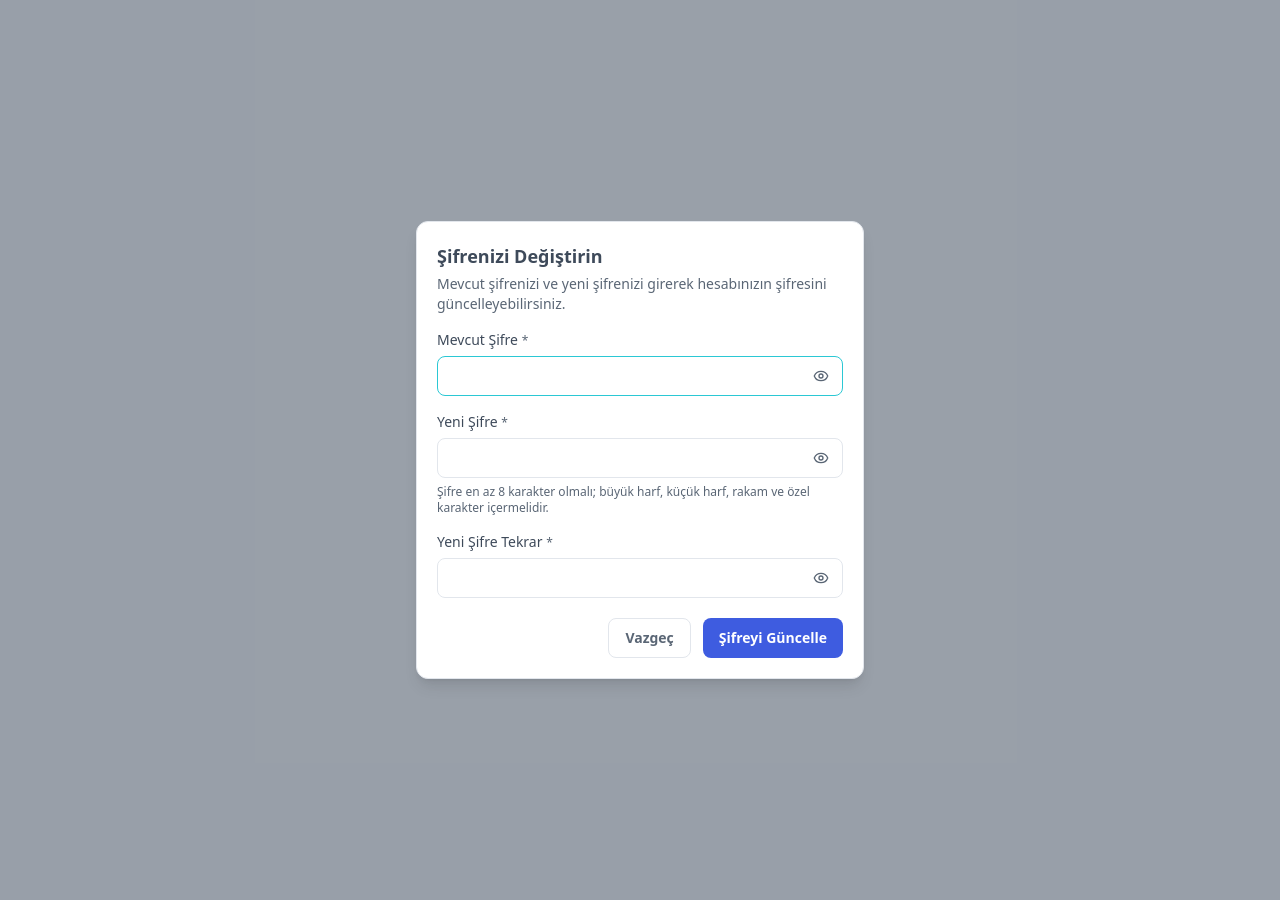
ChangePasswordDialog › boş formda hataları gösterir
Click the button "Şifreyi Güncelle" at (773, 638), box top-left (703, 618), bottom-right (843, 658)
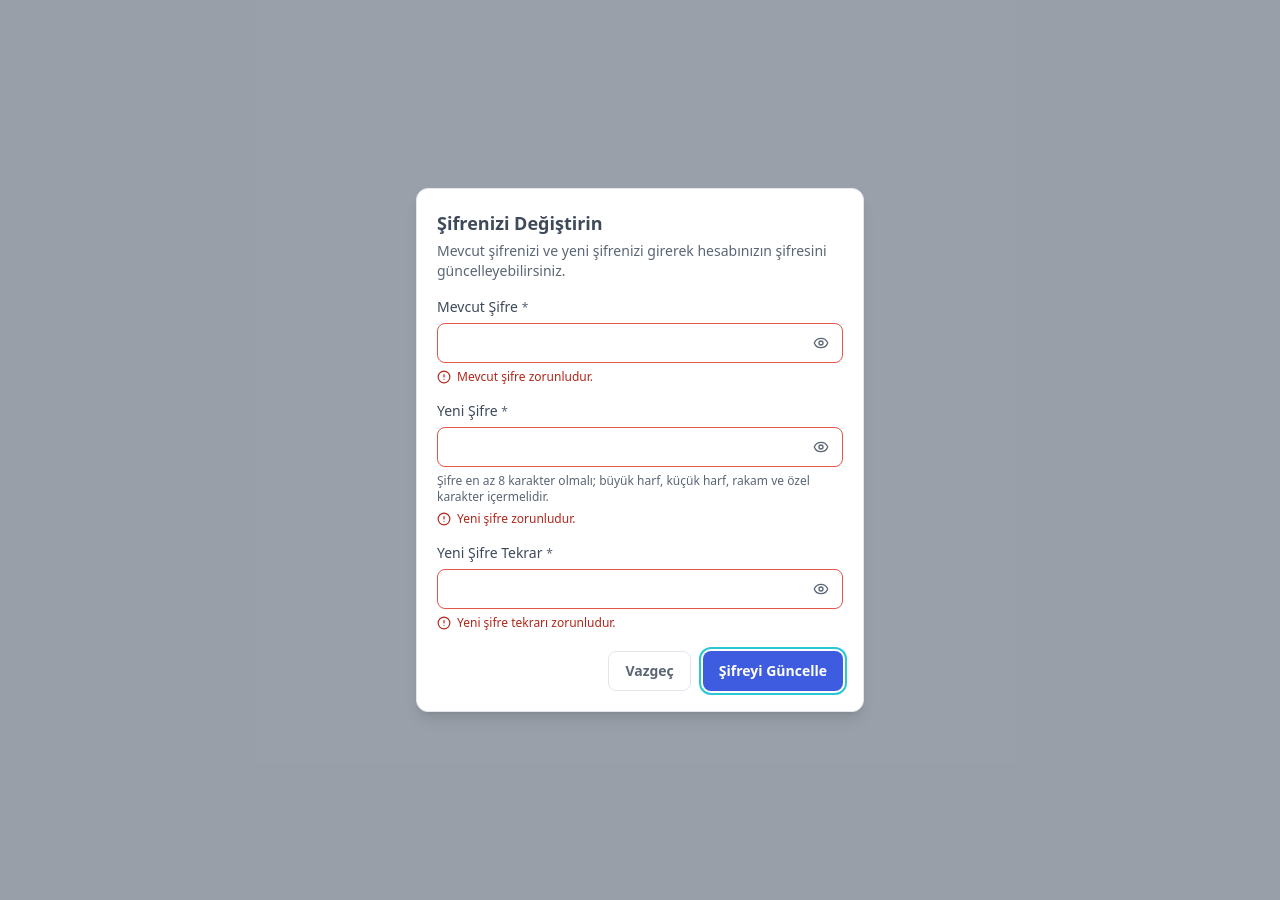
Expected: the text "Mevcut şifre zorunludur." is shown, top-left (437, 368), bottom-right (593, 385)
Expected: the text "Yeni şifre zorunludur." is shown, top-left (437, 510), bottom-right (575, 527)
